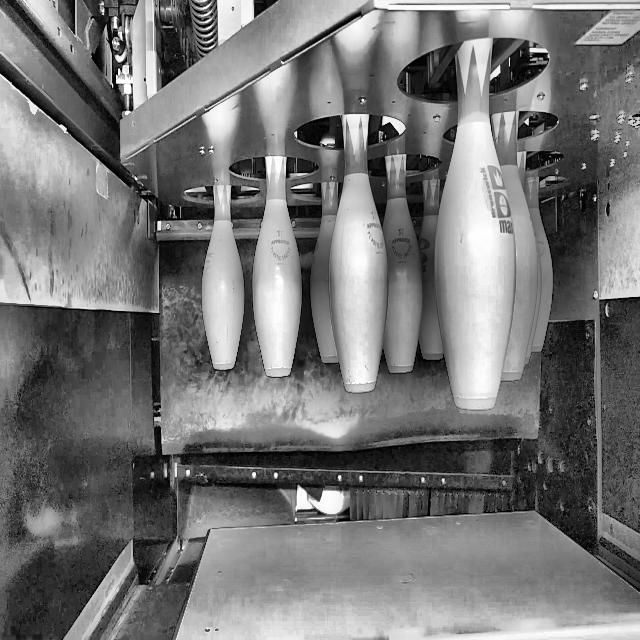bowling-pins: (435, 23, 517, 409), (329, 111, 388, 392), (492, 89, 539, 380), (253, 153, 302, 375), (383, 152, 423, 372), (202, 165, 244, 369), (311, 164, 339, 362), (526, 169, 554, 351), (419, 167, 444, 359)
